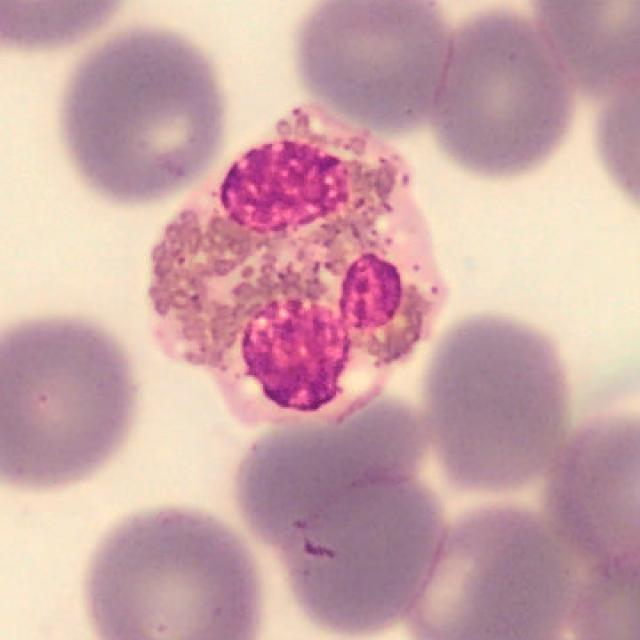Eosinofilo: (148, 105, 448, 428)
